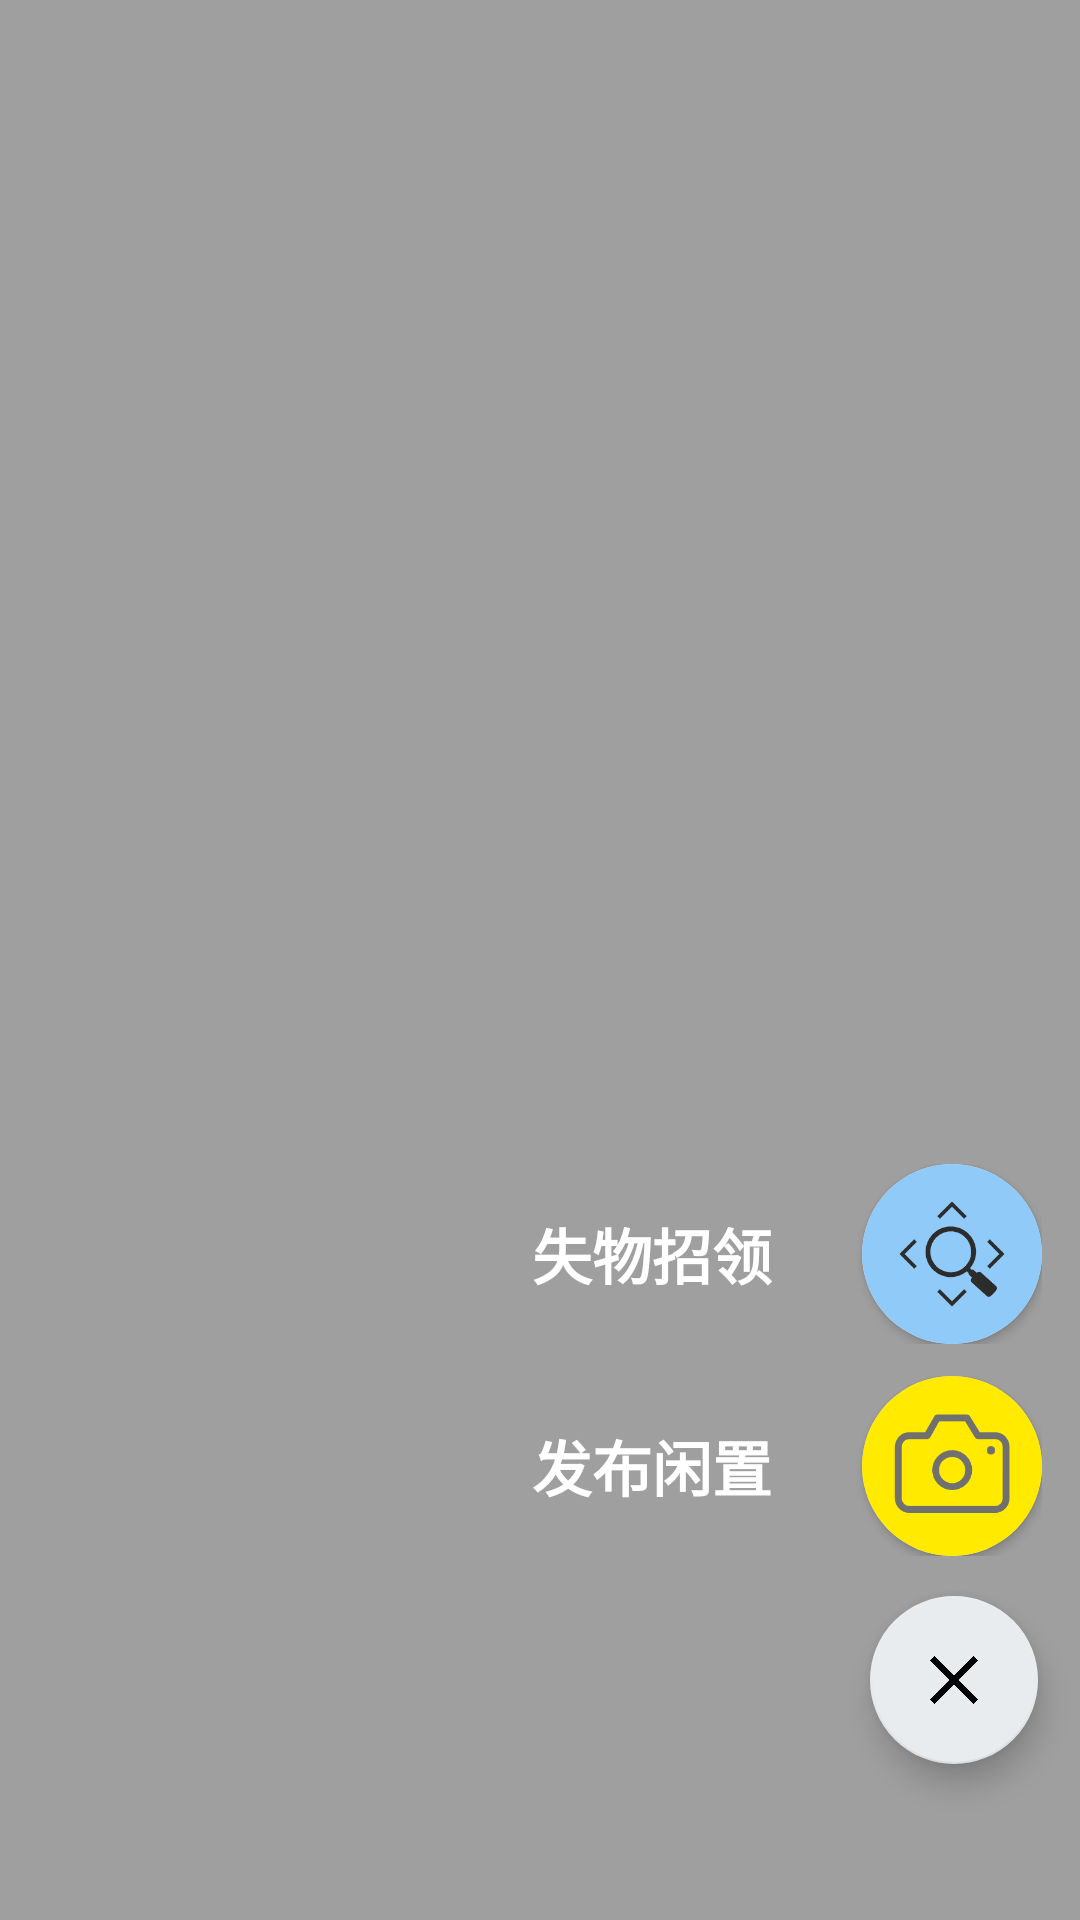

Icons on this 1080 x 1920 Android screen, each with the point to tap as point (x, y):
close: point (954, 1680)
photo: point (952, 1466)
seek: point (952, 1254)
